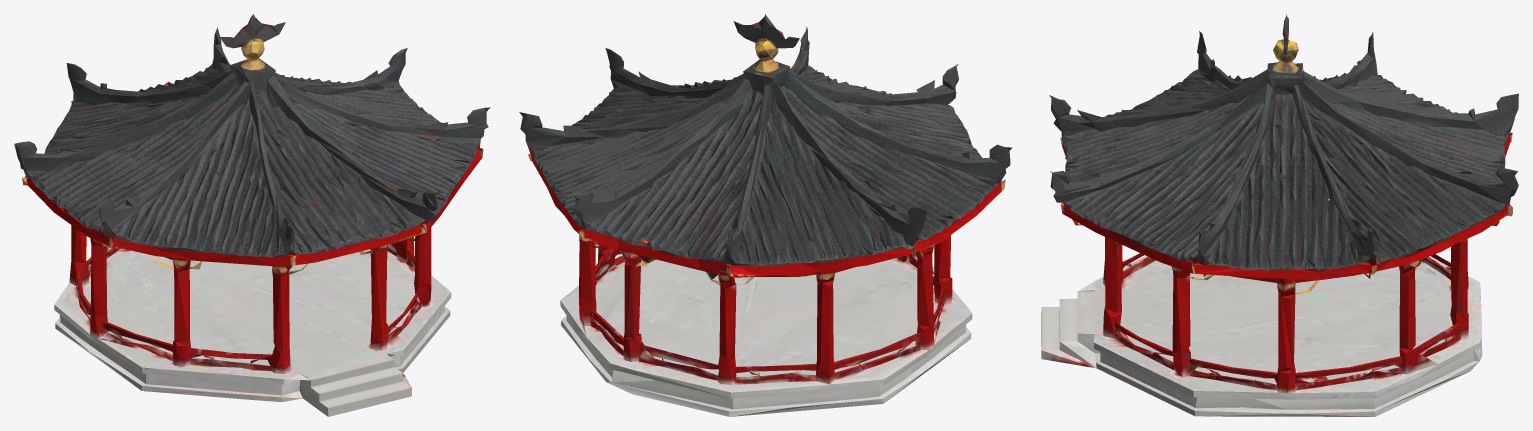
The model's file is pavilion.glb.
3 views of the same model, side by side, from view 1: azimuth 30°, elevation 25°; view 2: azimuth 150°, elevation 25°; view 3: azimuth 270°, elevation 25° (orthographic). The views are drawn at different scales.
Visible parts, largest first — view 1: output_unwrapped; view 2: output_unwrapped; view 3: output_unwrapped.
Part boxes in pixels (box(x1,y1,x2,y2)): output_unwrapped: box(14, 14, 490, 416); output_unwrapped: box(519, 14, 1012, 416); output_unwrapped: box(1041, 14, 1518, 416).
Bounding box in the file's own units: 1.9 × 1.41 × 1.9.
1 material, 1 textured.
